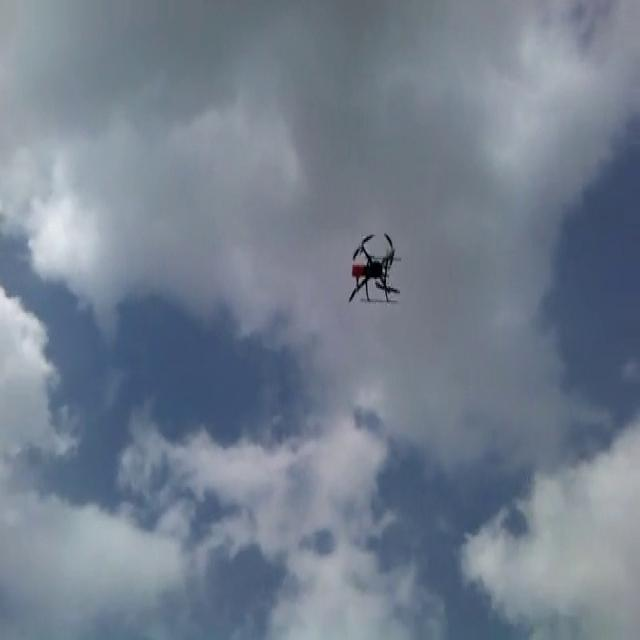drone: (345, 222, 402, 304)
